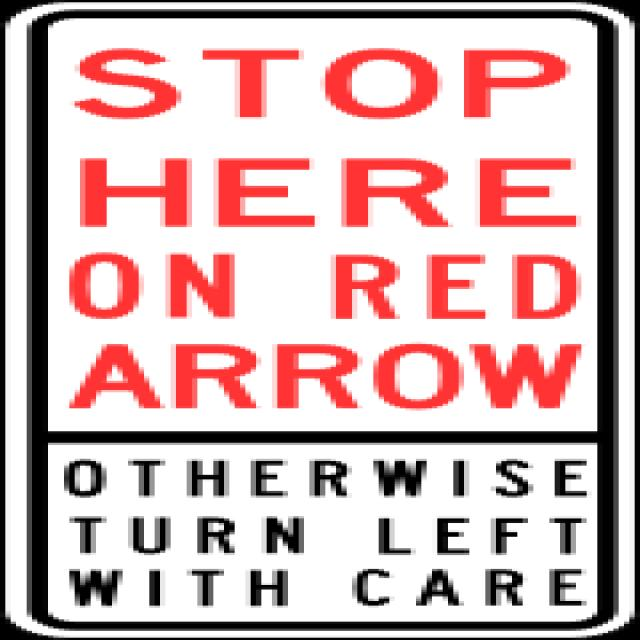Traffic sign: (26, 8, 620, 428)
